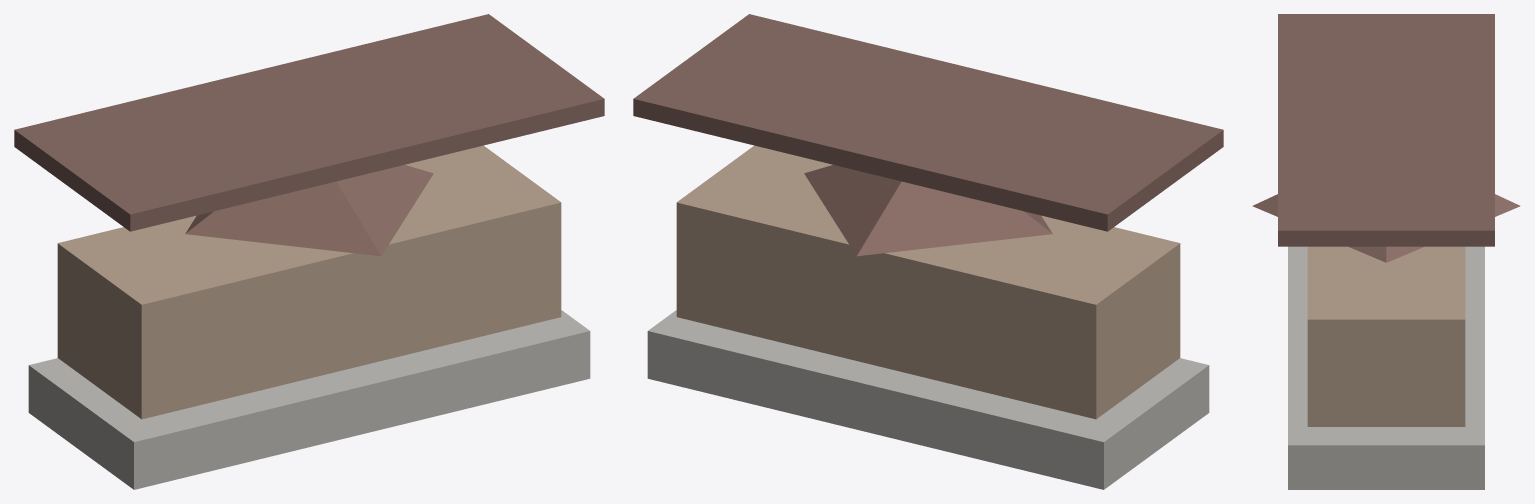
3 views of the same model, side by side, from view 1: azimuth 30°, elevation 25°; view 2: azimuth 150°, elevation 25°; view 3: azimuth 270°, elevation 25° (orthographic). The views are drawn at different scales.
Parts seen in each view (by area): view 1: part1, part2, part0, part3; view 2: part1, part2, part0, part3; view 3: part2, part1, part0, part3.
Boxes of the visible parts, left/top/right/bottom form: part1: left=57, top=145, right=561, bottom=419; part2: left=14, top=14, right=604, bottom=231; part0: left=28, top=310, right=590, bottom=489; part3: left=185, top=165, right=433, bottom=256; part1: left=676, top=145, right=1180, bottom=419; part2: left=633, top=14, right=1223, bottom=231; part0: left=647, top=310, right=1209, bottom=489; part3: left=804, top=165, right=1052, bottom=256; part2: left=1278, top=14, right=1494, bottom=246; part1: left=1307, top=246, right=1465, bottom=426; part0: left=1288, top=246, right=1484, bottom=489; part3: left=1252, top=194, right=1520, bottom=262.
Bounding box in the file's own units: 5.2 × 2.95 × 2.73.
